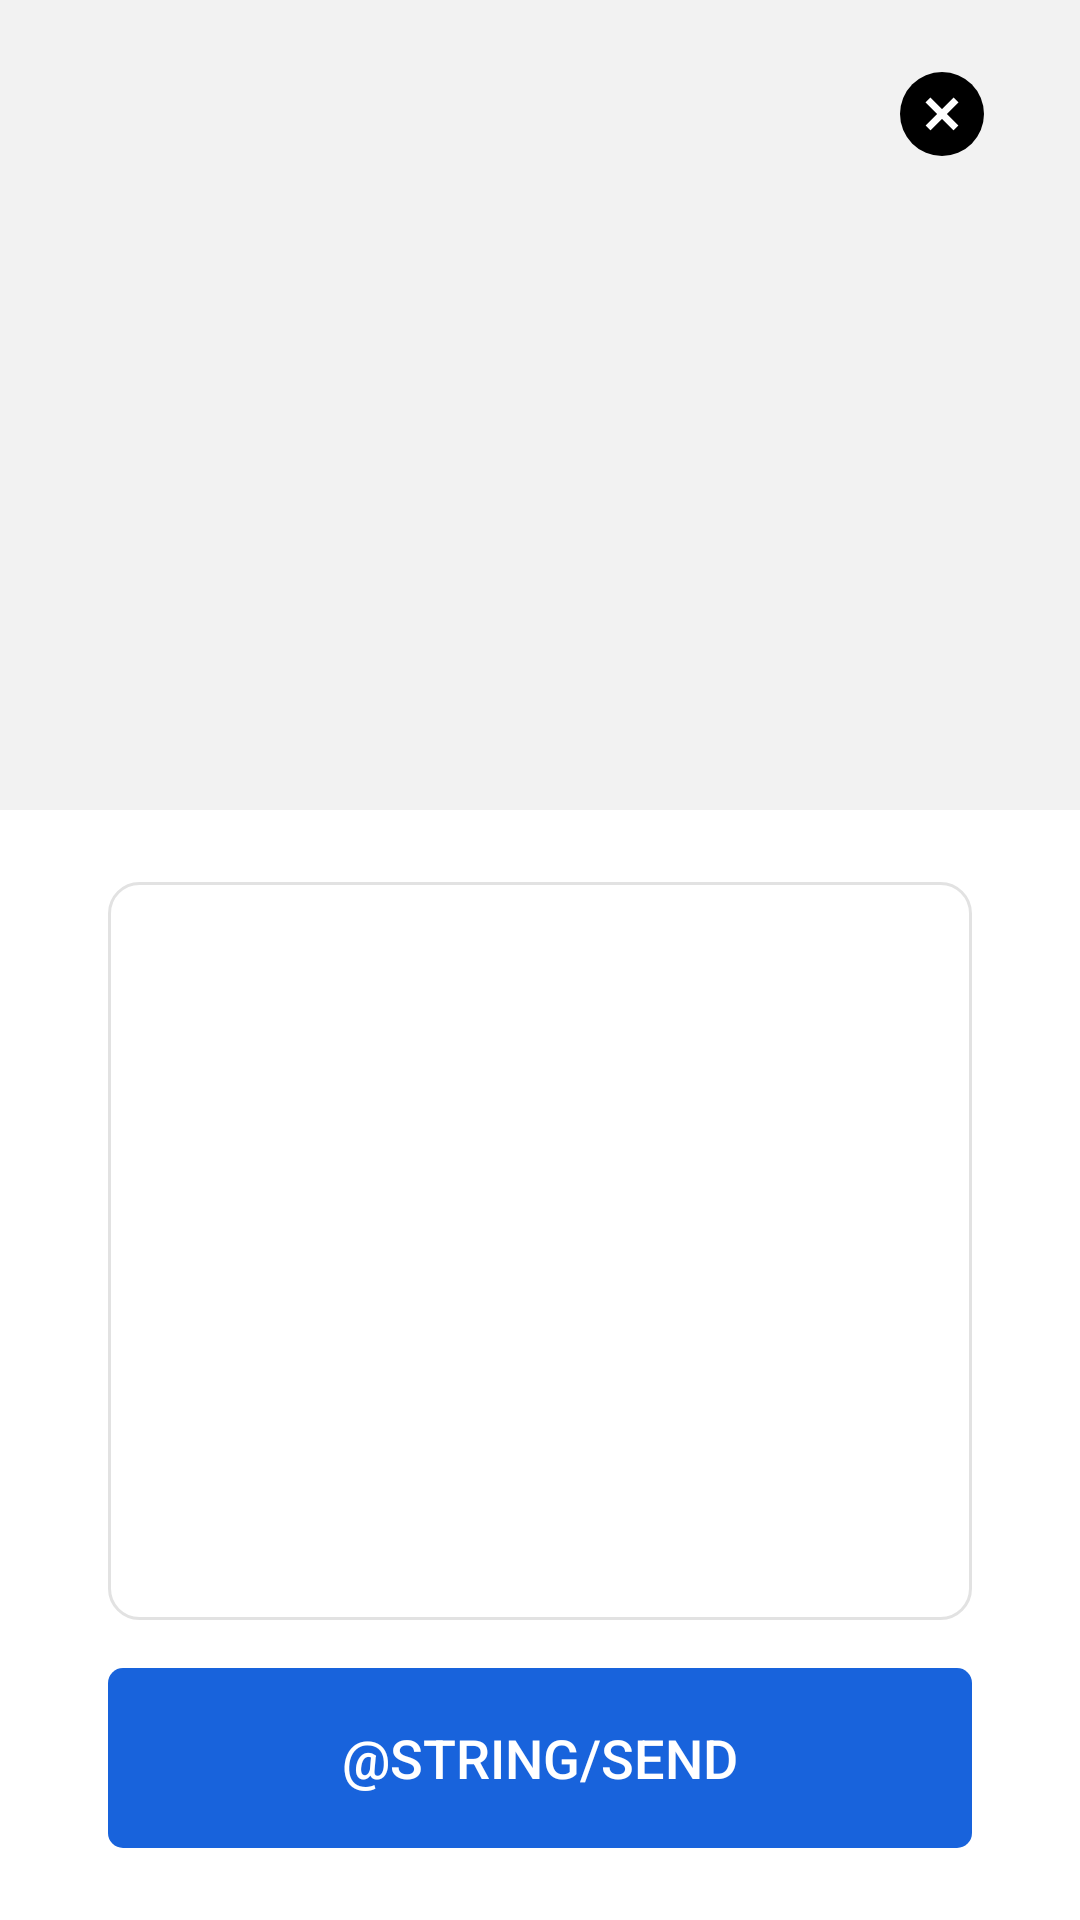

Icons on this 1080px×1920px Android screen, each with the point to tap as (x,y):
close: (942,114)
